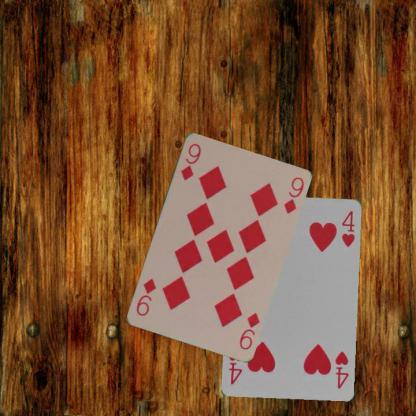4h: (332, 348, 350, 389)
9d: (236, 309, 261, 351), (178, 140, 202, 182)
